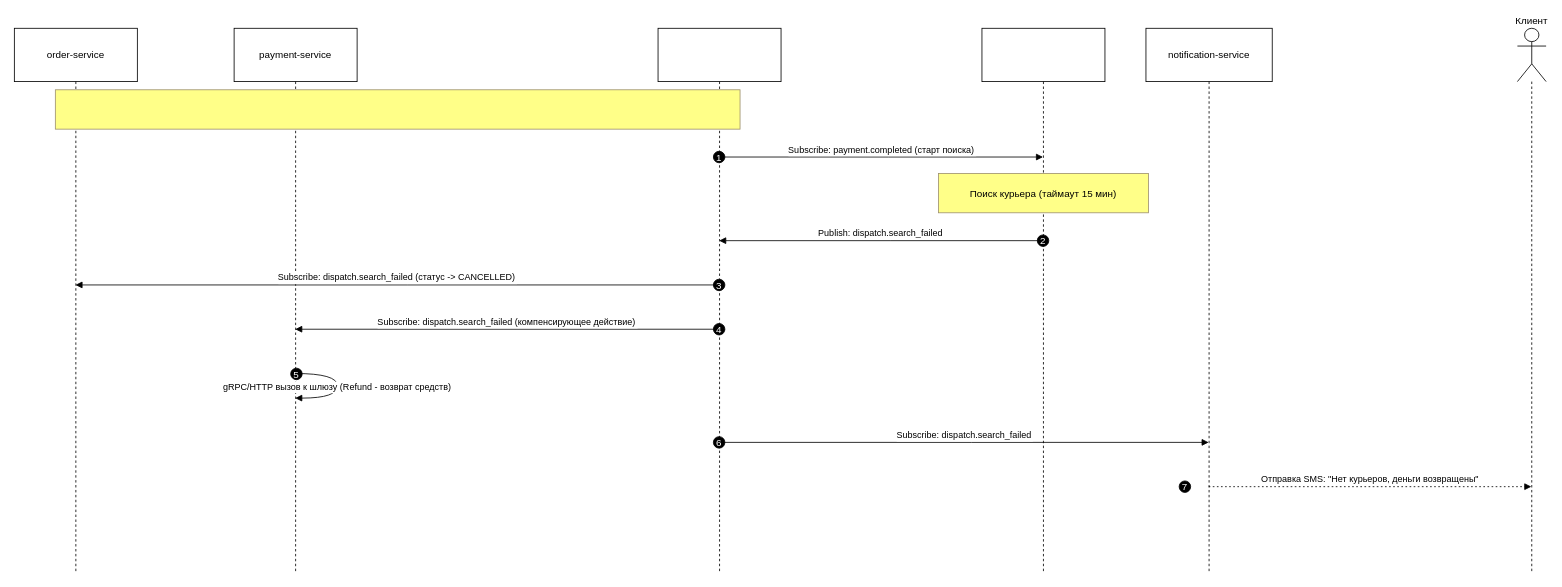
Image size: 1562x587. Some labels were removed from this diagram. The box of each missing label's shape, as (x1, y1, x2, y2) in pixels:
...Заказ успешно оплачен (событие payment.completed)...: (55, 89, 740, 129)
dispatch-service: (981, 27, 1105, 573)
Kafka: (657, 27, 781, 573)
